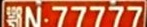N: (25, 6, 41, 27)
